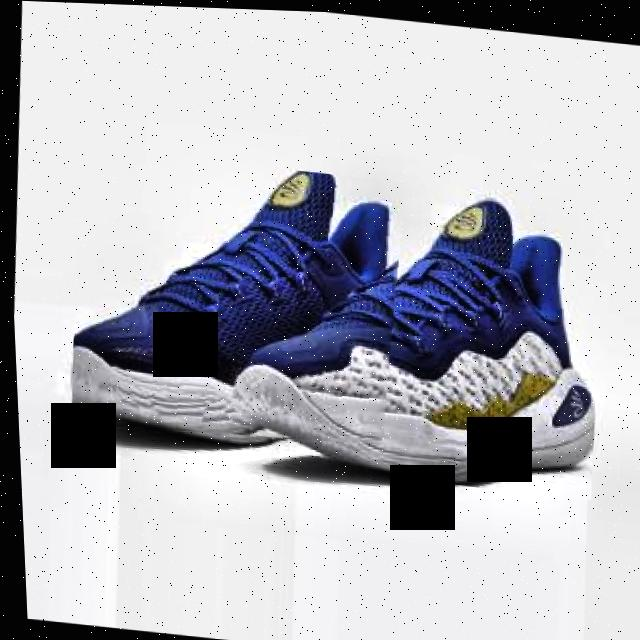shoe: (233, 169, 608, 495), (57, 146, 415, 456)
